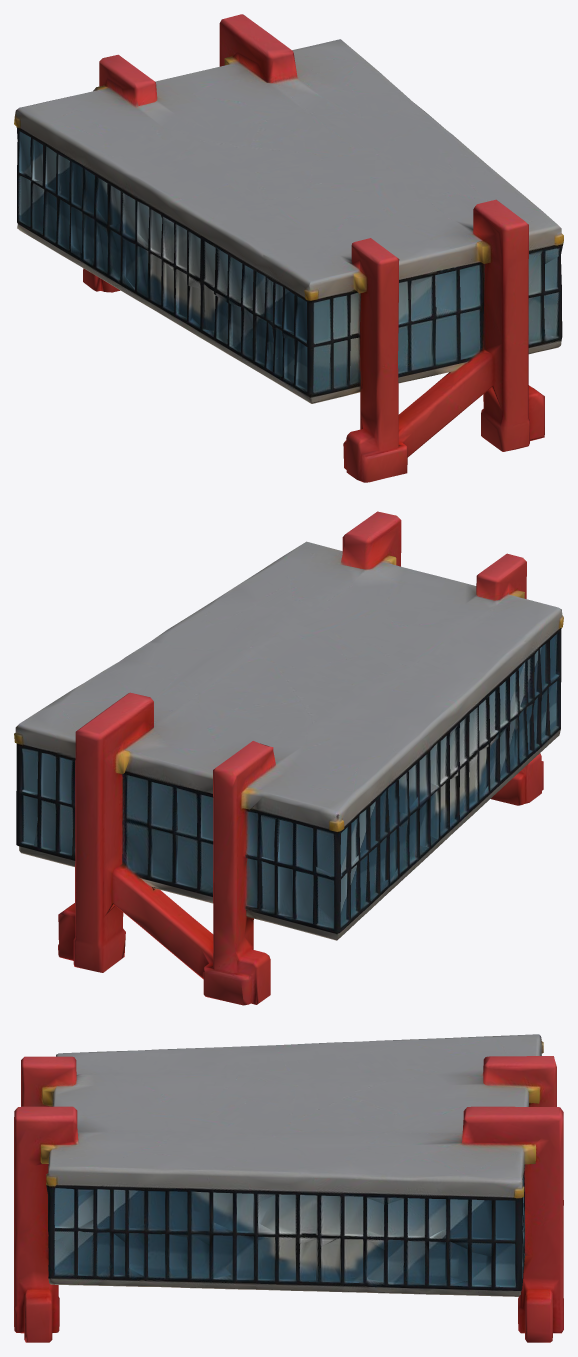
File: CenarioMasp.glb
The picture shows the model from 3 angles, top to bottom: view 1: azimuth 30°, elevation 25°; view 2: azimuth 150°, elevation 25°; view 3: azimuth 270°, elevation 25°; orthographic projection. The views are drawn at different scales.
Parts seen in each view (by area): view 1: tripo_node_d634fc07-4fb3-43db-9f01-426e33b28db5; view 2: tripo_node_d634fc07-4fb3-43db-9f01-426e33b28db5; view 3: tripo_node_d634fc07-4fb3-43db-9f01-426e33b28db5.
Part boxes in pixels (x1=…): tripo_node_d634fc07-4fb3-43db-9f01-426e33b28db5: x1=14, y1=14, x2=563, y2=482; tripo_node_d634fc07-4fb3-43db-9f01-426e33b28db5: x1=14, y1=511, x2=563, y2=1005; tripo_node_d634fc07-4fb3-43db-9f01-426e33b28db5: x1=14, y1=1034, x2=563, y2=1342.
Size of the model in its own units: 3.71 by 2.5 by 5.76.
1 material, 1 textured.
